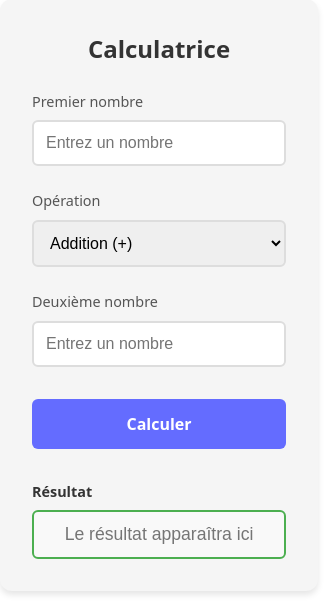
Test case: Calculator › should calculate addition correctly
Type "5" into the number field labelled "Premier nombre" at (159,143), box [32, 120, 286, 166]
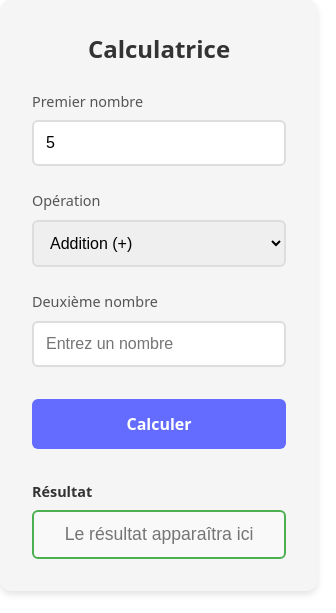
Type "3" into the number field labelled "Deuxième nombre" at (159,344), box [32, 321, 286, 367]
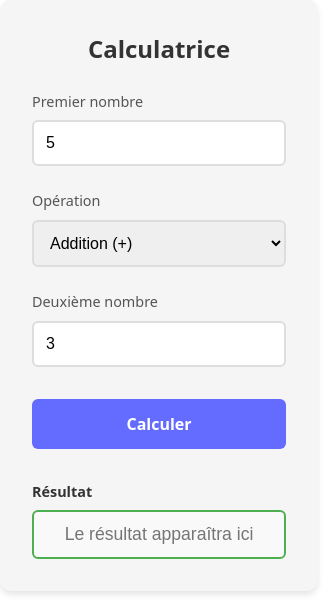
Click the button "Calculer" at (159,424), box [32, 399, 286, 449]
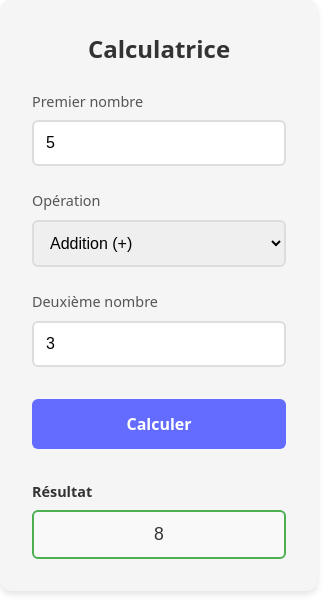
Result: the field labelled "Résultat" holds "8" at [32, 510, 286, 559]
